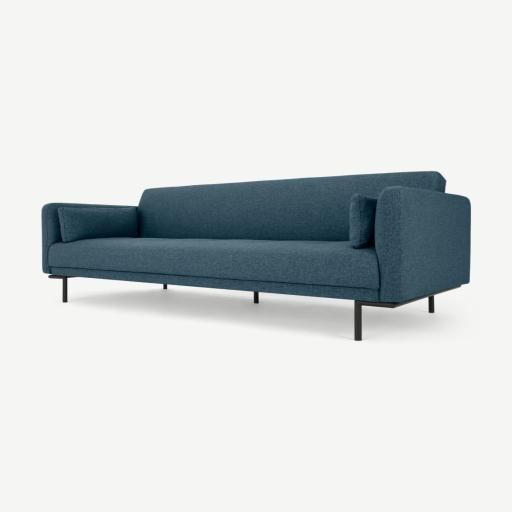back_cushion: (138, 172, 445, 241)
base: (54, 267, 379, 299)
left_arm: (375, 187, 470, 302)
legs: (354, 286, 460, 340), (49, 275, 75, 303), (253, 291, 258, 303)
right_arm: (42, 202, 124, 273)
seat_cushion: (50, 238, 380, 290)
two-seater: (0, 0, 511, 512)
